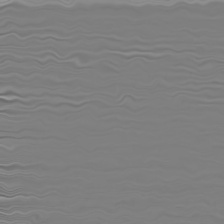cavities: (63, 75, 130, 124)
